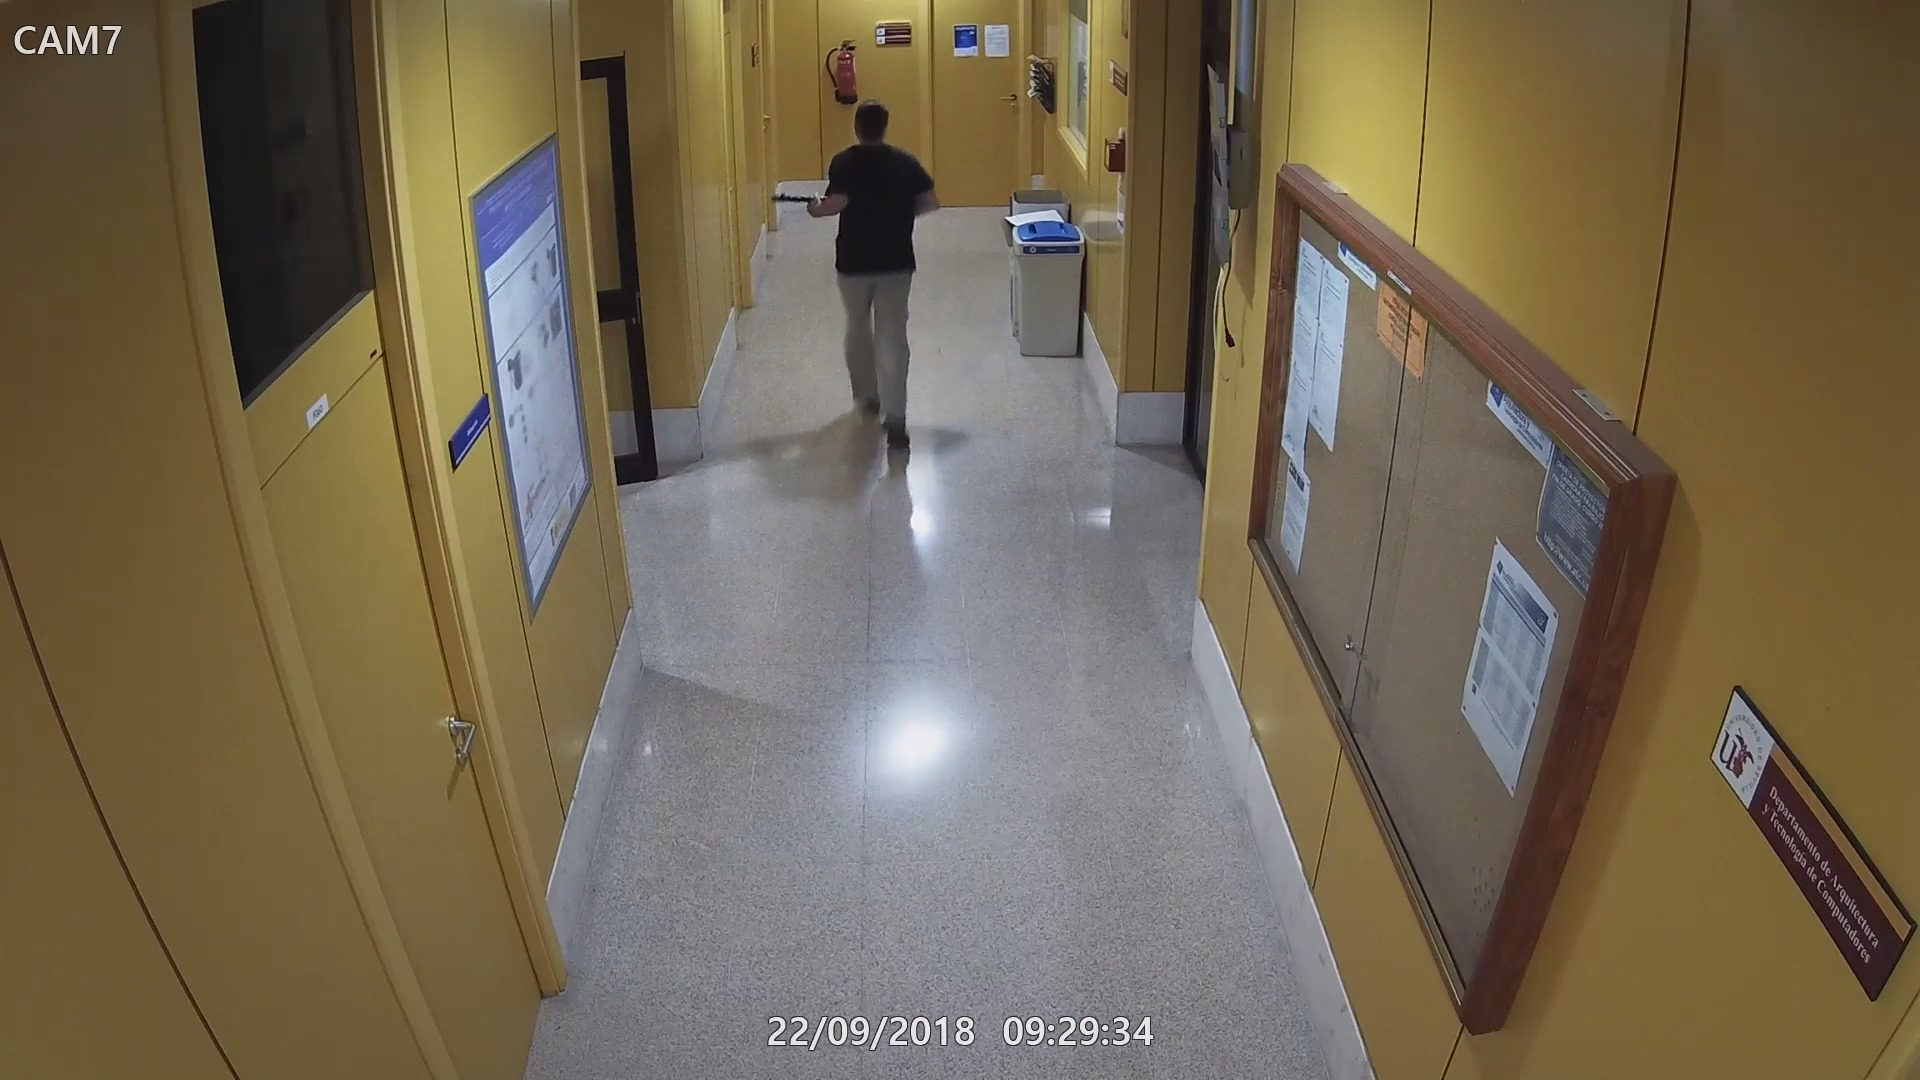Short_rifle: (764, 187, 841, 208)
